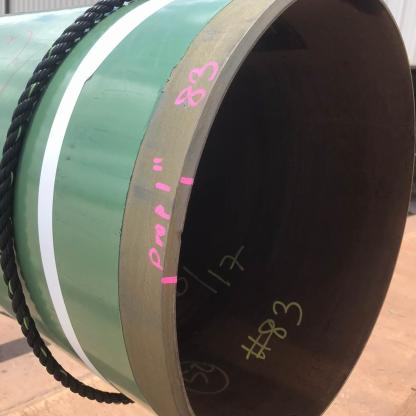Bevel: (174, 216, 193, 256)
